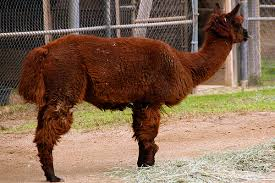alpaca: (18, 2, 250, 183)
